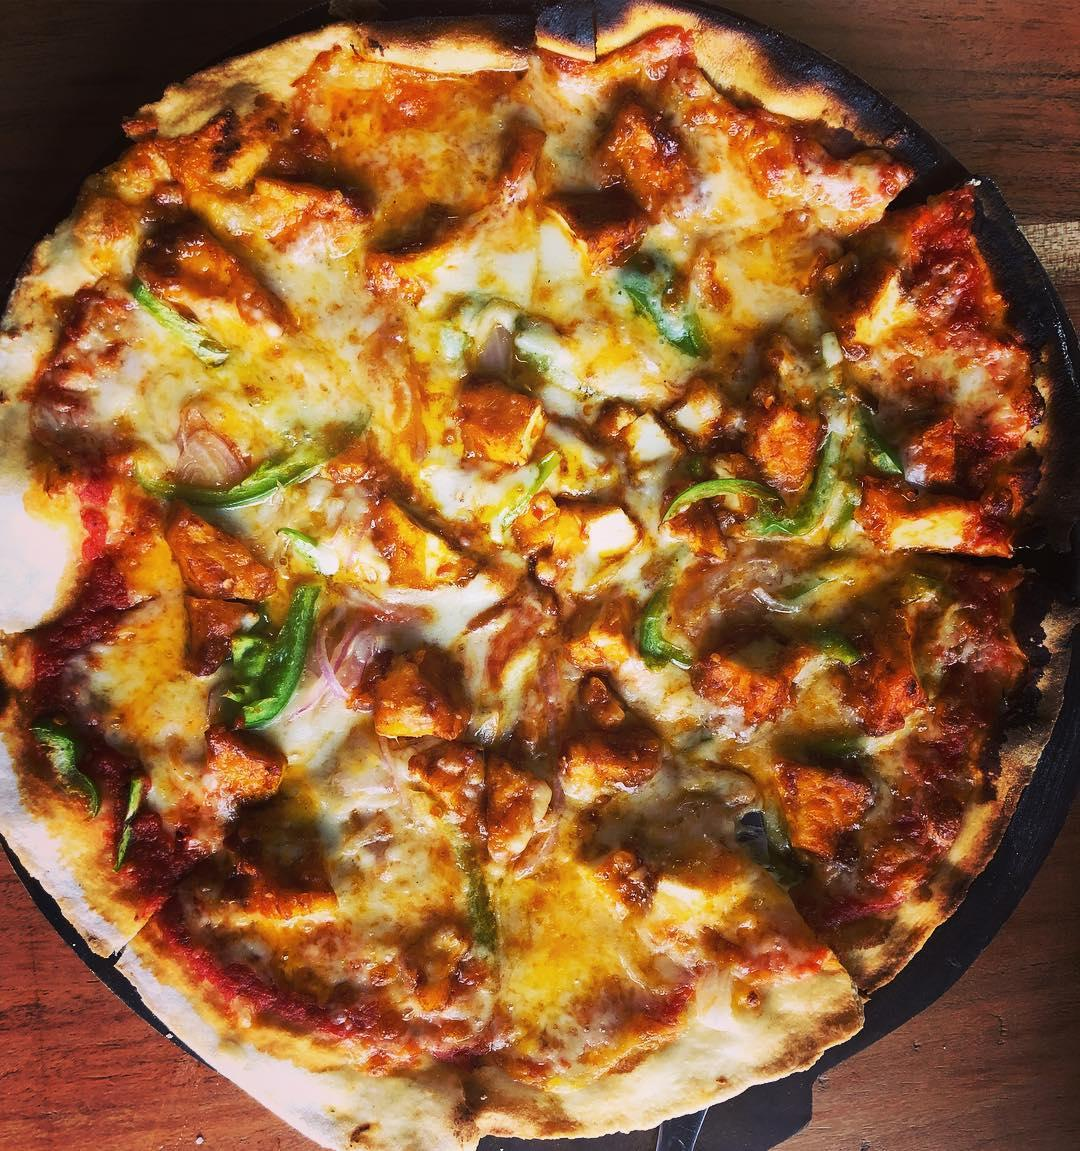Chicken: (385, 131, 545, 275), (405, 747, 550, 859), (160, 504, 283, 635), (152, 228, 289, 343), (572, 111, 678, 250), (560, 677, 670, 800), (201, 125, 351, 213), (356, 492, 481, 596), (843, 598, 925, 746), (352, 647, 466, 740), (760, 755, 868, 848), (453, 381, 555, 474), (747, 401, 826, 499), (688, 649, 787, 725), (195, 735, 286, 814)
Peppers: (650, 391, 888, 554), (208, 598, 330, 733), (198, 418, 379, 509), (598, 258, 740, 368), (631, 564, 707, 678)
Pizza: (11, 11, 1063, 1151)
